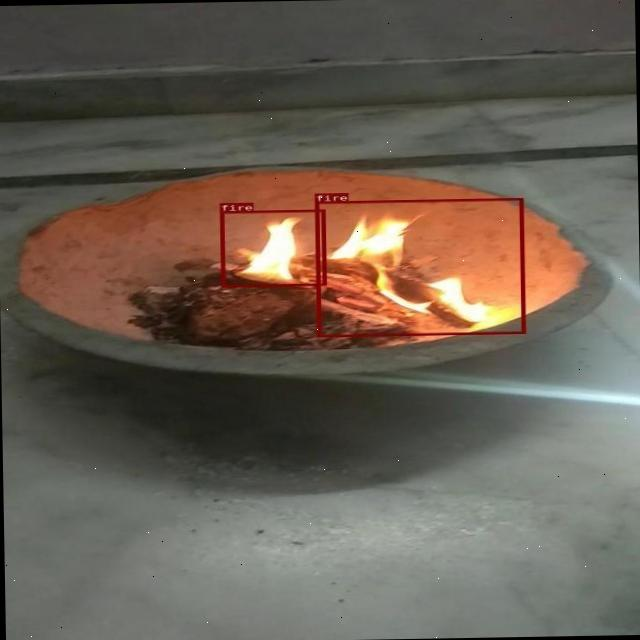fire: (314, 198, 524, 336), (219, 209, 325, 287)
